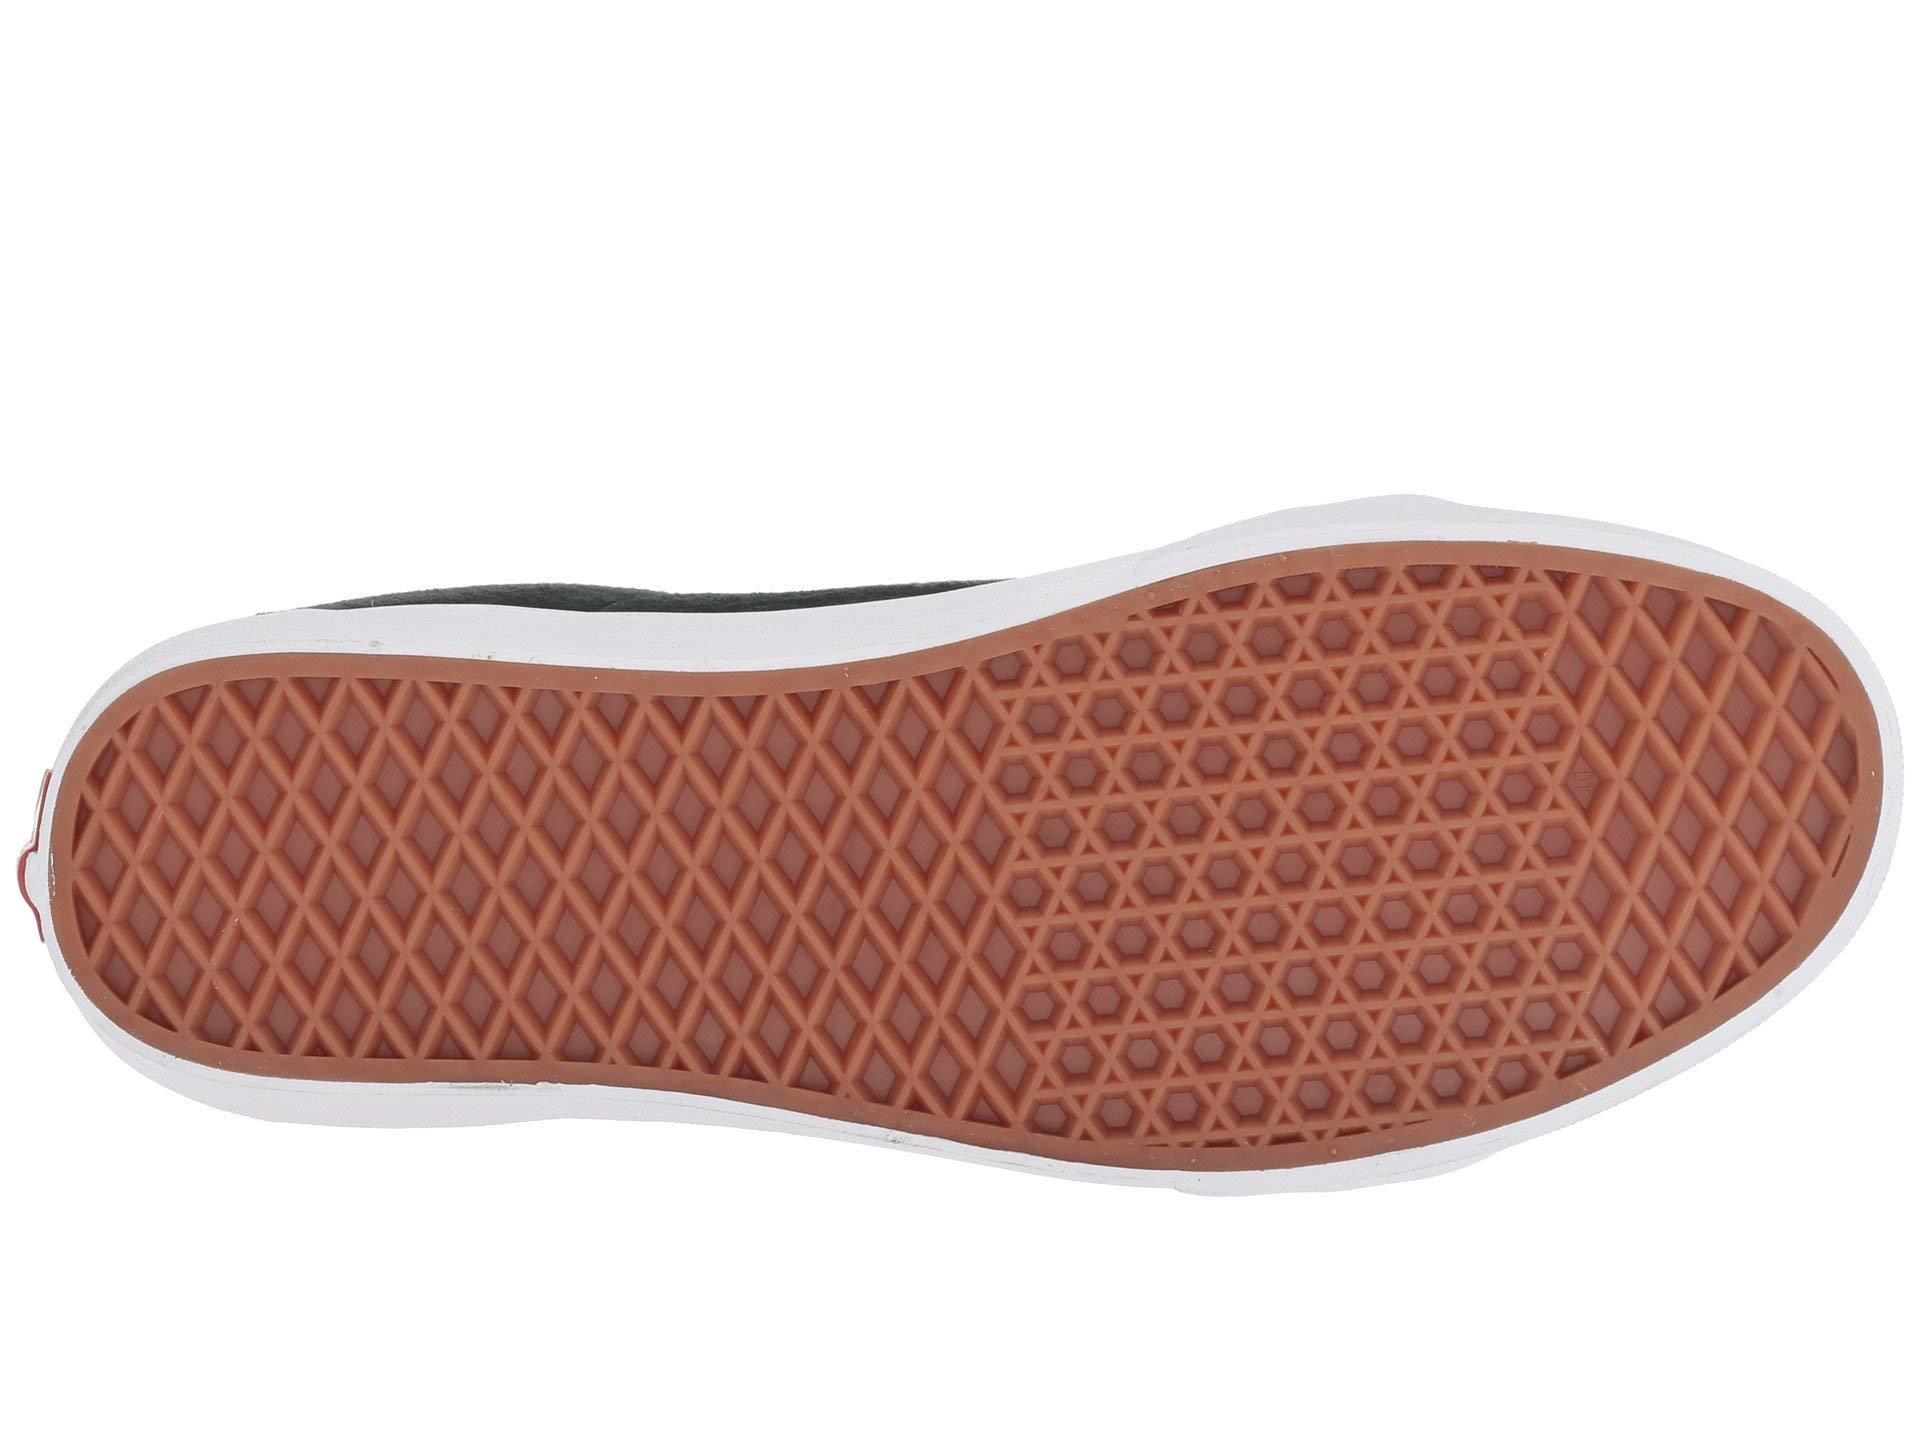polygon: (1023, 644, 1548, 1085)
quad: (150, 709, 968, 998), (1578, 620, 1807, 926)
triangle: (1023, 644, 1548, 1085)
